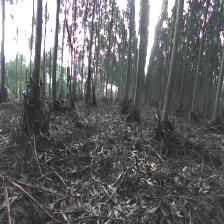trunk: (161, 4, 184, 123), (26, 2, 43, 112), (132, 18, 144, 110), (51, 5, 61, 102), (124, 25, 132, 103), (0, 3, 6, 92)
